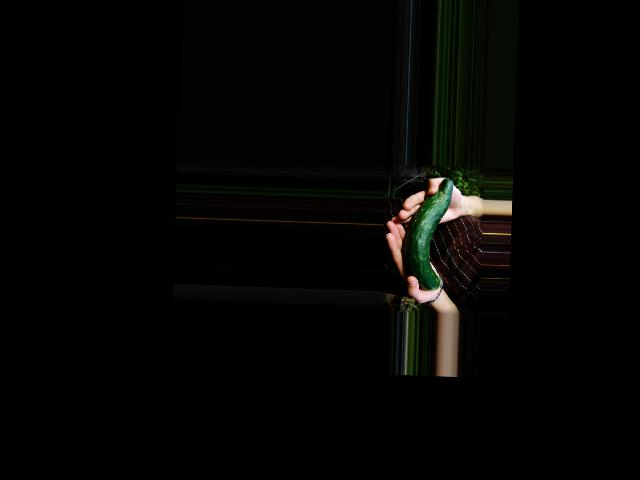cucumber: (402, 177, 453, 292)
